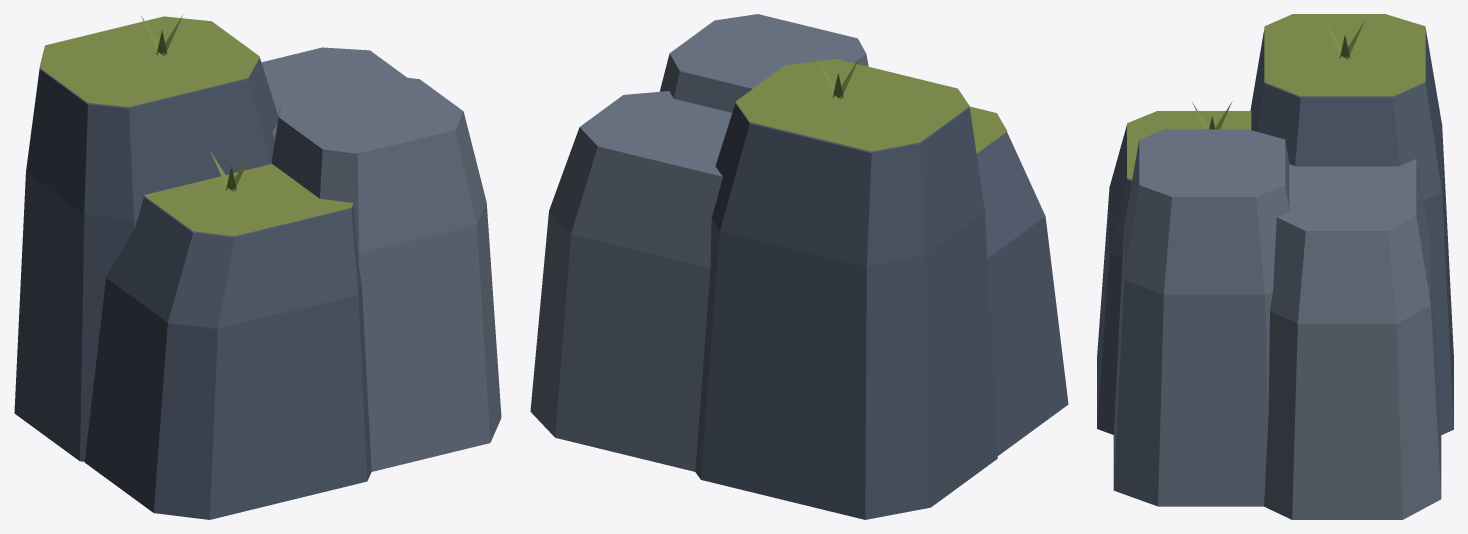
Rendered from RockCluster2.glb.
The picture shows the model from 3 angles, left to right: view 1: azimuth 30°, elevation 25°; view 2: azimuth 150°, elevation 25°; view 3: azimuth 270°, elevation 25°; orthographic projection. The views are drawn at different scales.
Parts seen in each view (by area): view 1: Faceted cliff column, Faceted cliff column.001, Faceted cliff column.002, Grassy cliff cap.001, Grassy cliff cap, Faceted cliff column.003; view 2: Faceted cliff column.002, Faceted cliff column.003, Faceted cliff column, Grassy cliff cap.001, Faceted cliff column.001, Grassy cliff cap; view 3: Faceted cliff column.001, Faceted cliff column.003, Faceted cliff column.002, Grassy cliff cap.001, Faceted cliff column, Grassy cliff cap.
Boxes of the visible parts, x1,y1,x2,y2 form: Faceted cliff column: (84, 196, 371, 519); Faceted cliff column.001: (271, 74, 501, 471); Faceted cliff column.002: (14, 58, 278, 461); Grassy cliff cap.001: (39, 16, 259, 106); Grassy cliff cap: (144, 164, 353, 236); Faceted cliff column.003: (261, 47, 406, 140); Faceted cliff column.002: (695, 103, 997, 519); Faceted cliff column.003: (530, 91, 732, 471); Faceted cliff column: (976, 132, 1068, 455); Grassy cliff cap.001: (735, 59, 969, 151); Faceted cliff column.001: (660, 14, 868, 112); Grassy cliff cap: (969, 106, 1007, 153); Faceted cliff column.001: (1113, 129, 1289, 506); Faceted cliff column.003: (1264, 159, 1441, 519); Faceted cliff column.002: (1250, 29, 1453, 434); Grassy cliff cap.001: (1264, 14, 1425, 96); Faceted cliff column: (1097, 125, 1131, 434); Grassy cliff cap: (1127, 111, 1251, 179).
Bounding box in the file's own units: 8.1 × 7.67 × 6.71.
